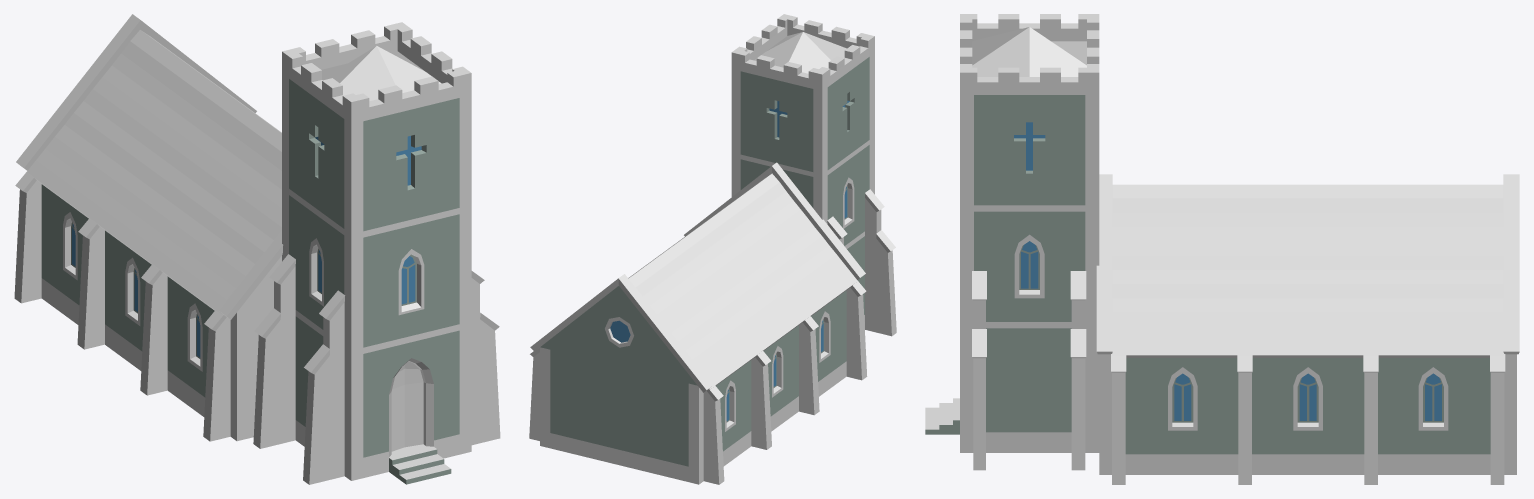
Rendered from medieval-church.fbx.
3 renders of one model, left to right at view 1: azimuth 30°, elevation 25°; view 2: azimuth 150°, elevation 25°; view 3: azimuth 270°, elevation 25°, orthographic. The views are drawn at different scales.
Visible parts, largest first — view 1: medieval-church; view 2: medieval-church; view 3: medieval-church.
Boxes of the visible parts, box(x1,y1,x2,y2) form: medieval-church: box(14, 14, 500, 484); medieval-church: box(529, 14, 896, 484); medieval-church: box(925, 14, 1519, 484).
Size of the model in its own units: 9.2 by 13.83 by 18.79.
